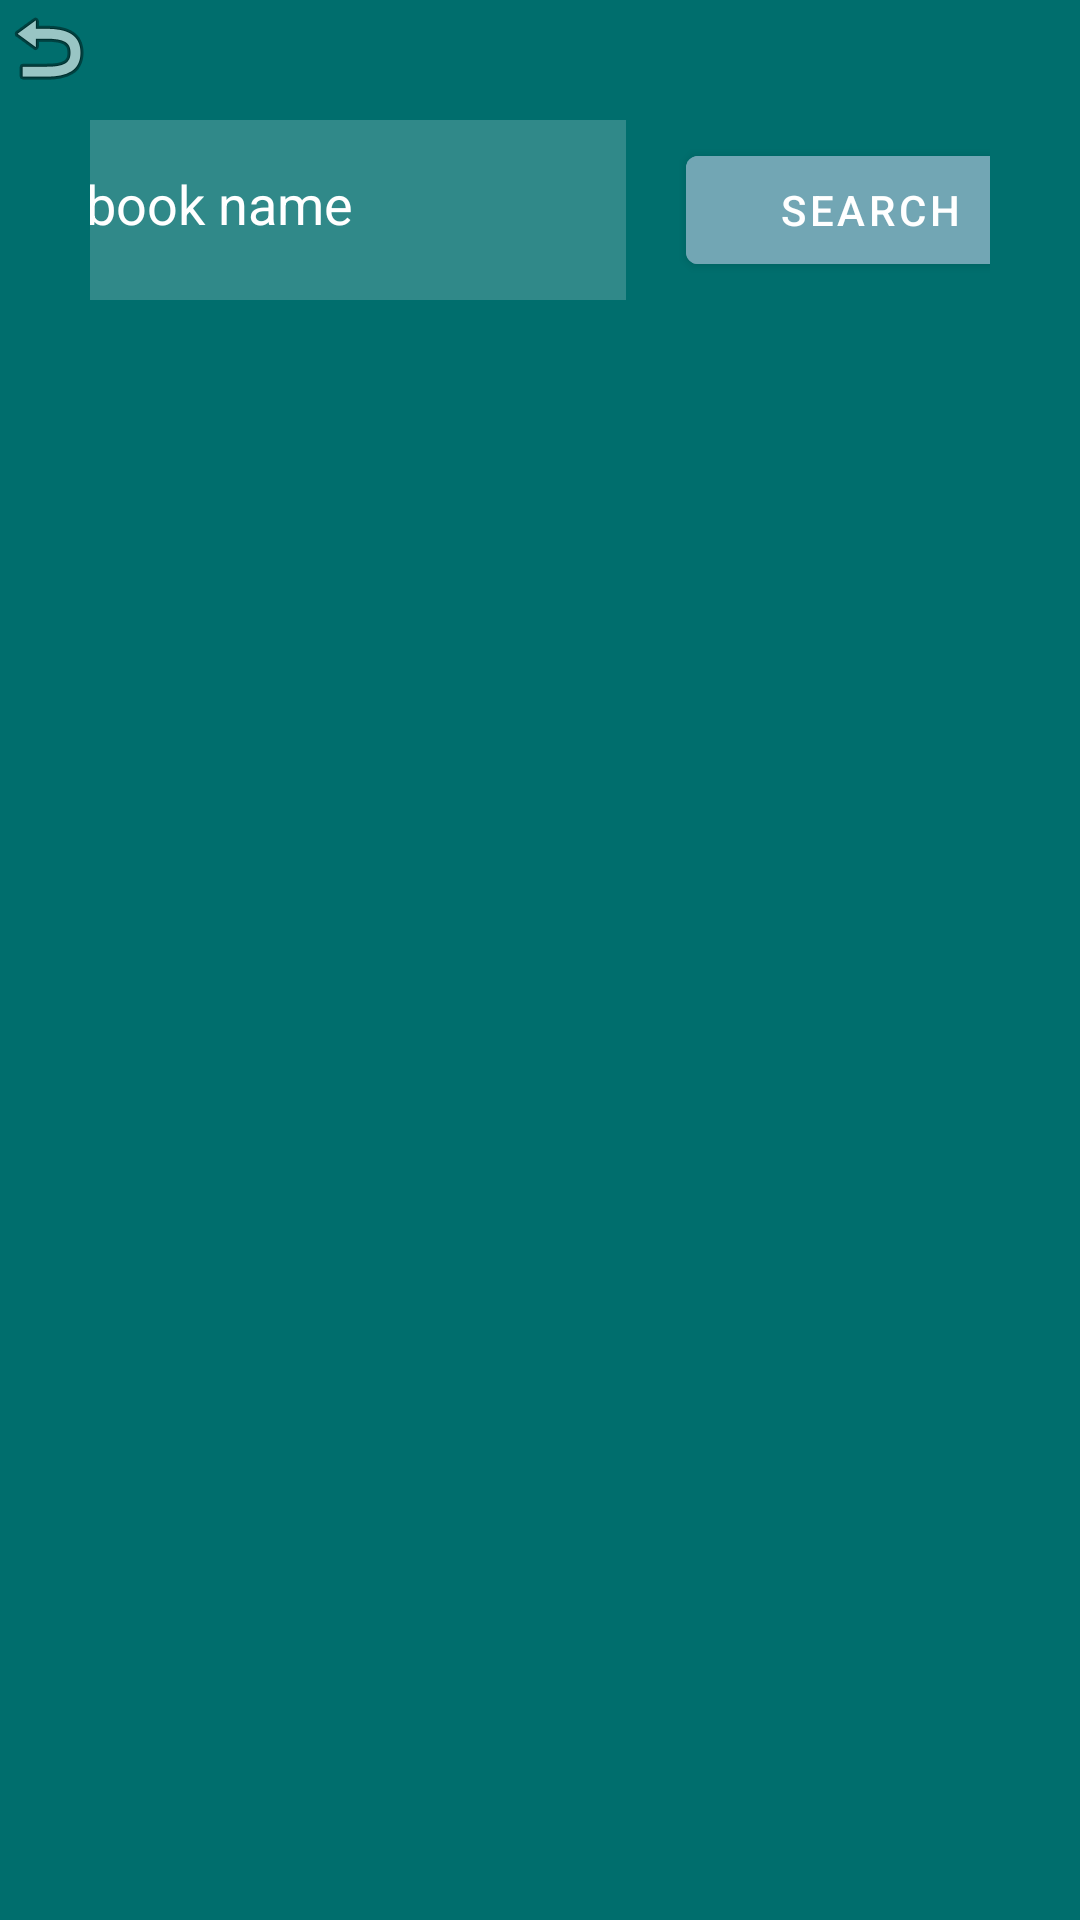

Where to tap for icons on this 1080×1920 app screen, as [x,y]:
revert: [49,49]
